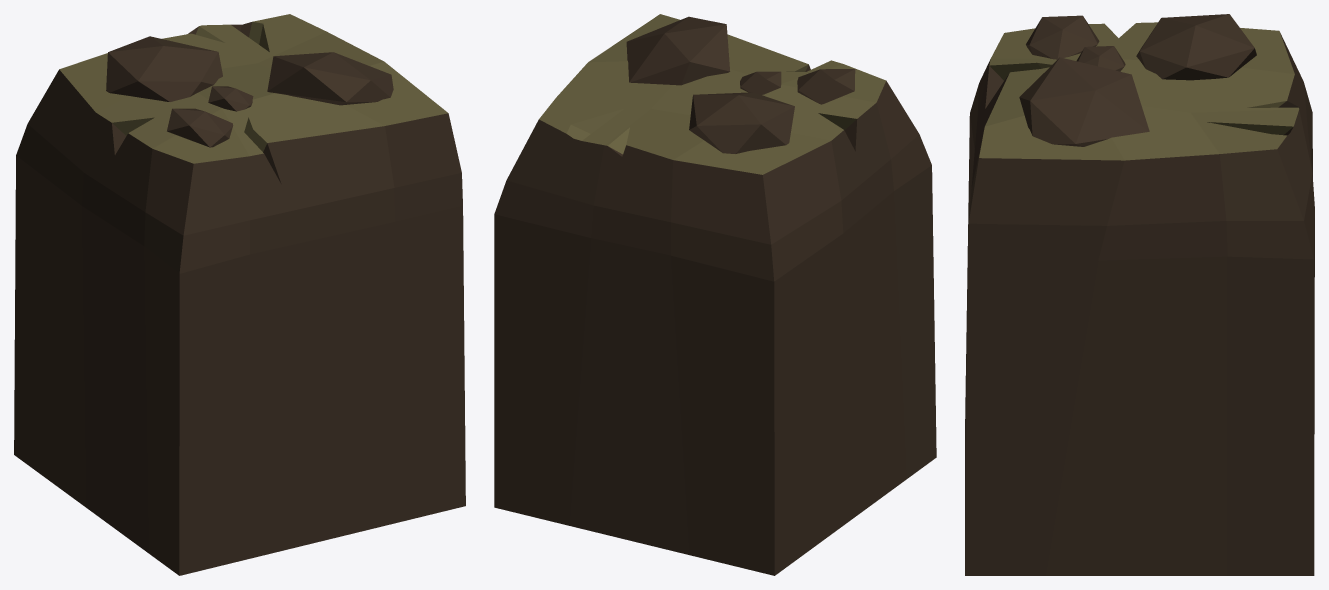
File: TileWall_05.fbx
The picture shows the model from 3 angles, left to right: view 1: azimuth 30°, elevation 25°; view 2: azimuth 150°, elevation 25°; view 3: azimuth 270°, elevation 25°; orthographic projection. The views are drawn at different scales.
Parts seen in each view (by area): view 1: WallTile_05; view 2: WallTile_05; view 3: WallTile_05.
Part boxes in pixels (x1,y1,x2,y2): WallTile_05: (14, 14, 465, 575); WallTile_05: (494, 14, 936, 575); WallTile_05: (965, 14, 1314, 575).
Size of the model in its own units: 101 by 145 by 100.
